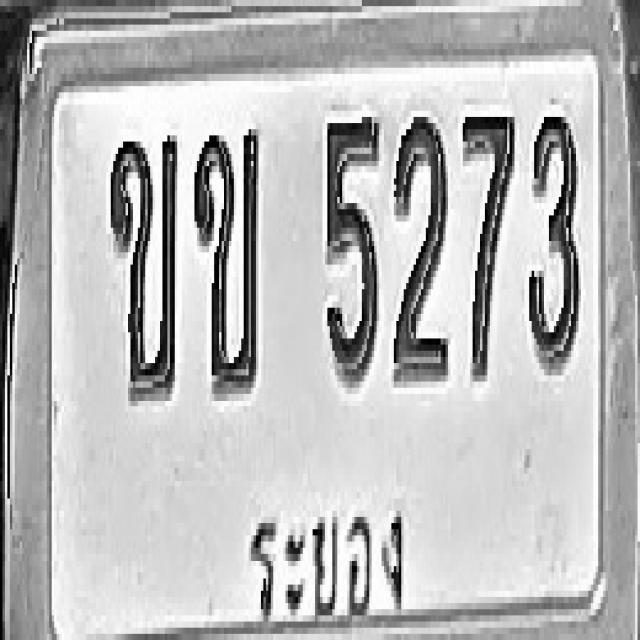11KhorKhai: (109, 129, 178, 400), (192, 126, 258, 397)
2: (391, 110, 448, 382)
3: (527, 111, 578, 369)
5: (325, 110, 379, 388)
7: (460, 110, 514, 382)
Rayong: (246, 489, 411, 640)
